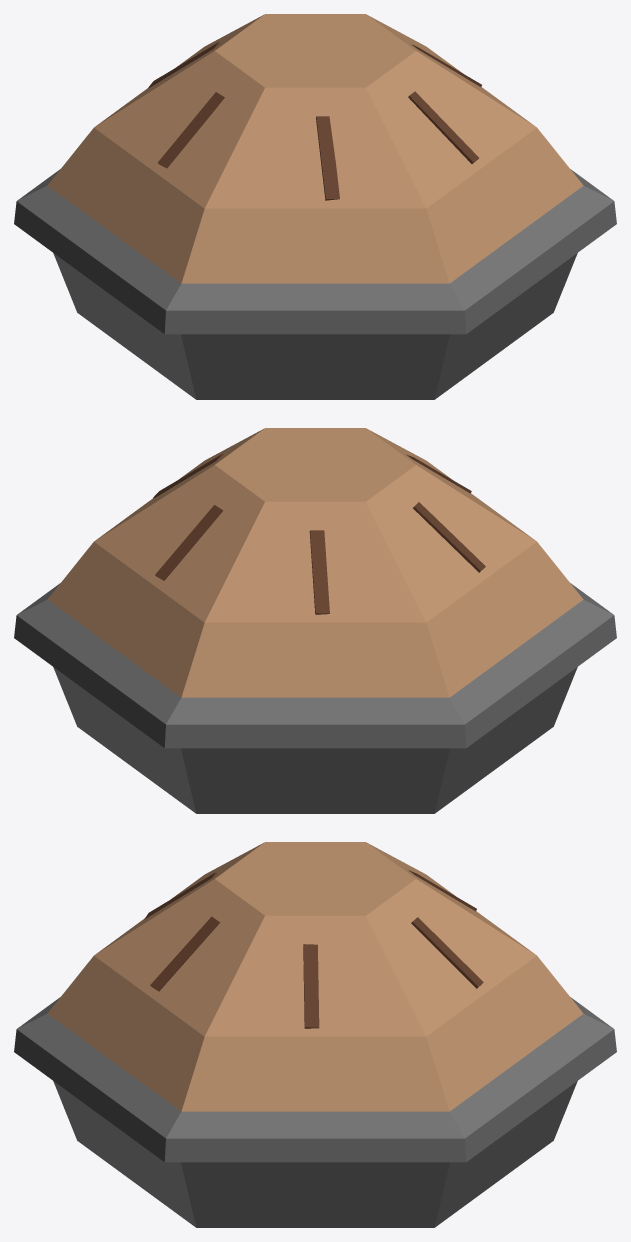
File: Pie.fbx
3 renders of one model, top to bottom at view 1: azimuth 30°, elevation 25°; view 2: azimuth 150°, elevation 25°; view 3: azimuth 270°, elevation 25°, orthographic.
Parts seen in each view (by area): view 1: Pie; view 2: Pie; view 3: Pie.
Boxes of the visible parts, x1,y1,x2,y2 form: Pie: (14, 14, 616, 399); Pie: (14, 428, 616, 813); Pie: (14, 842, 616, 1227).
Size of the model in its own units: 94.04 by 52.03 by 109.
